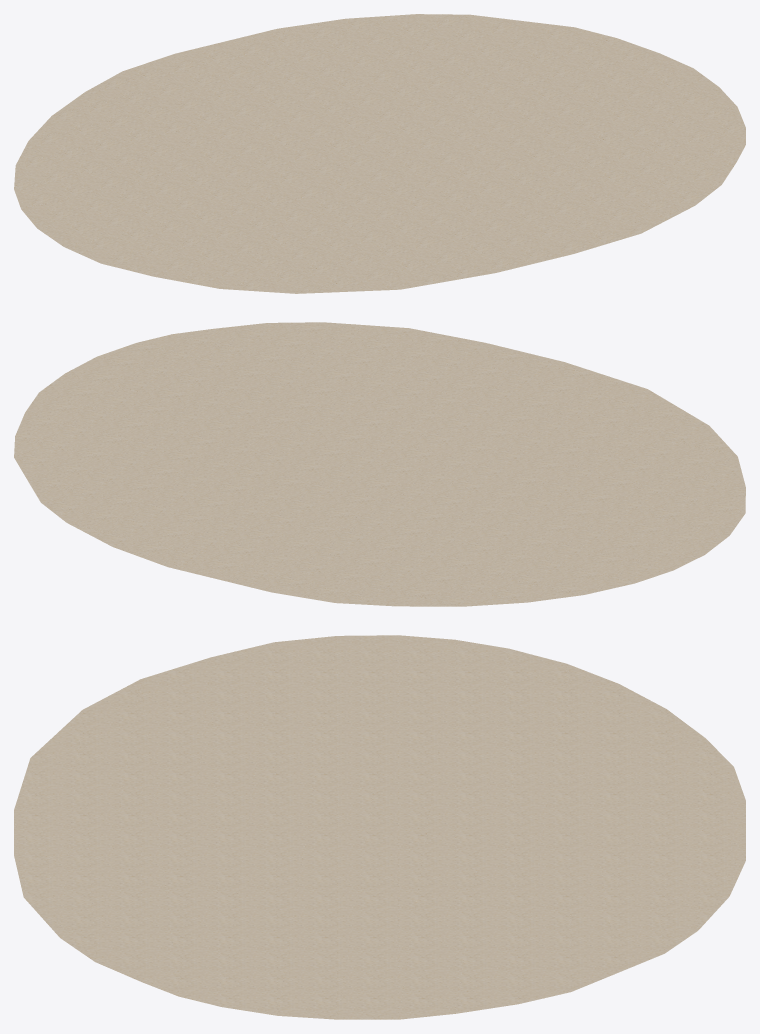
Rendered from CurbV5.gltf.
3 views of the same model, one above another, from view 1: azimuth 30°, elevation 25°; view 2: azimuth 150°, elevation 25°; view 3: azimuth 270°, elevation 25° (orthographic). The views are drawn at different scales.
Visible parts, largest first — view 1: Plane; view 2: Plane; view 3: Plane.
Boxes of the visible parts, box(x1,y1,x2,y2) form: Plane: box(14, 14, 745, 293); Plane: box(14, 322, 745, 606); Plane: box(14, 635, 745, 1019).
Bounding box in the file's own units: 29.65 × 8.17e-07 × 23.86.
1 material, 1 textured.
